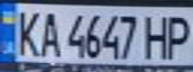4: (63, 9, 87, 58), (103, 11, 124, 60)
6: (81, 11, 106, 60)
7: (118, 11, 142, 60)
A: (36, 7, 63, 57)
H: (142, 11, 175, 61)
K: (9, 7, 42, 57)
P: (163, 11, 193, 60)
